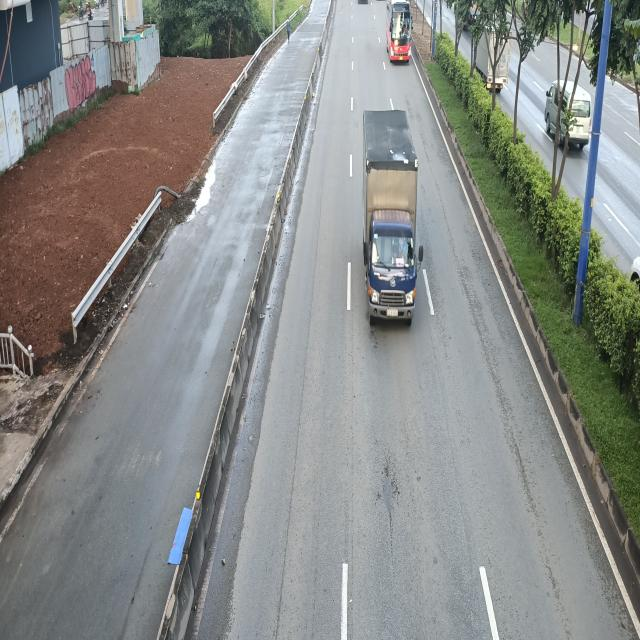coach: (384, 0, 412, 61)
truck: (364, 107, 426, 326)
